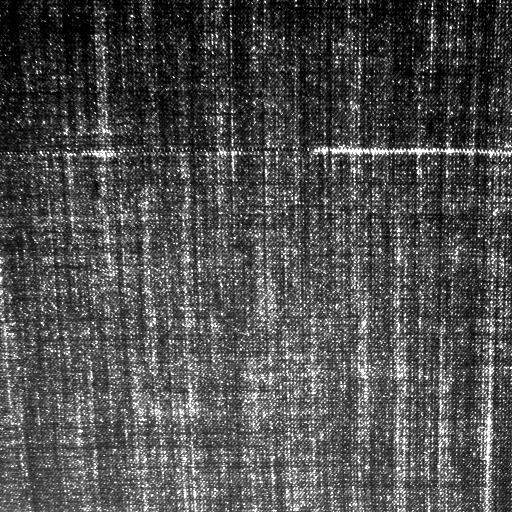fabric_broken_pick: (7, 142, 511, 166)
